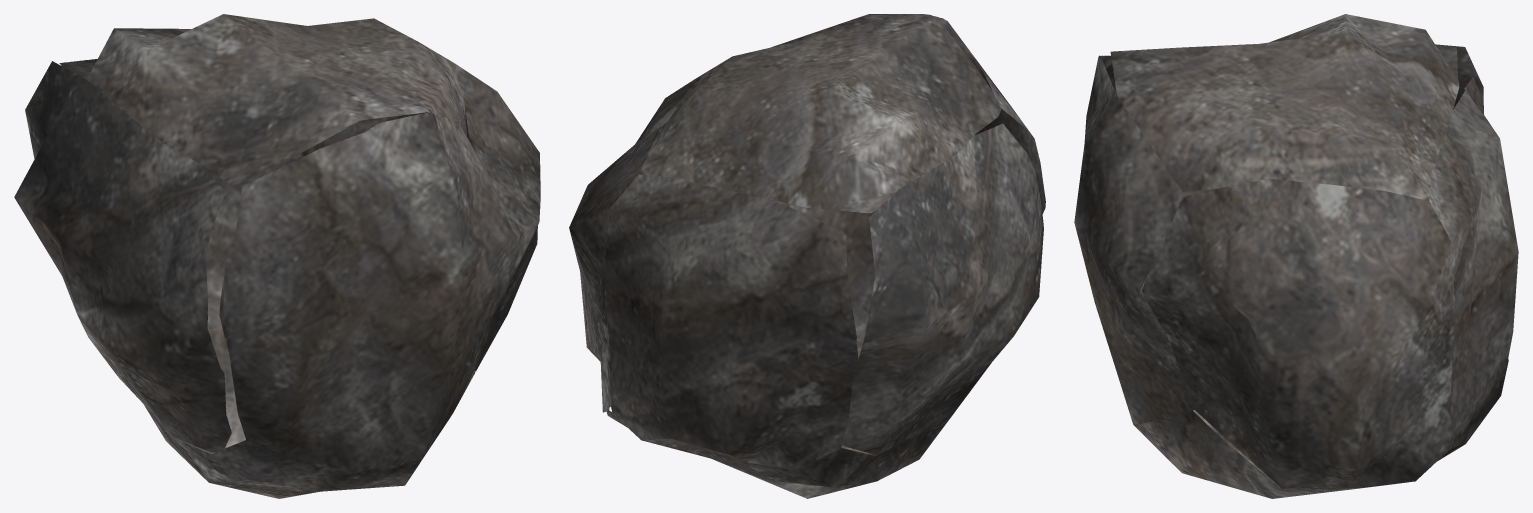
Rendered from Rock5.FBX.
The picture shows the model from 3 angles, left to right: view 1: azimuth 30°, elevation 25°; view 2: azimuth 150°, elevation 25°; view 3: azimuth 270°, elevation 25°; orthographic projection. The views are drawn at different scales.
Parts seen in each view (by area): view 1: rockLP001; view 2: rockLP001; view 3: rockLP001.
Boxes of the visible parts, bbox=[...] form: rockLP001: bbox=[14, 14, 540, 498]; rockLP001: bbox=[569, 14, 1045, 498]; rockLP001: bbox=[1074, 14, 1518, 498].
Size of the model in its own units: 2.4 by 2.43 by 2.31.
Materials: 1 (1 with a texture image).
